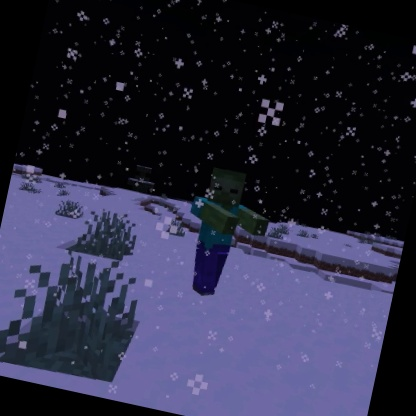zombie: (170, 160, 282, 309)
